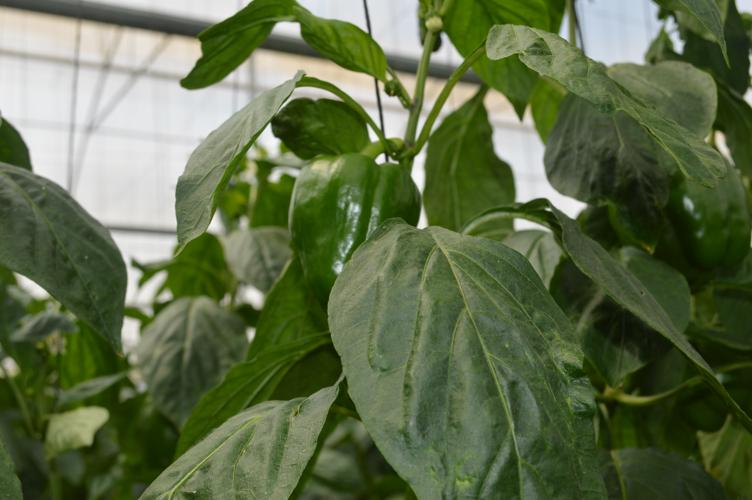BellPepper: (289, 155, 422, 306), (645, 170, 750, 286)
